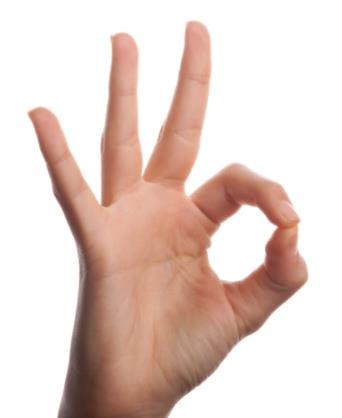left: (22, 16, 312, 412)
